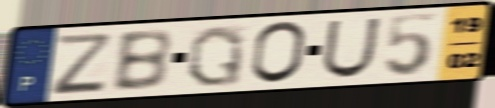5: (382, 11, 444, 79)
B: (109, 27, 175, 93)
O: (248, 19, 309, 86)
Q: (185, 23, 247, 89)
U: (319, 16, 384, 80)
Z: (50, 31, 112, 97)
